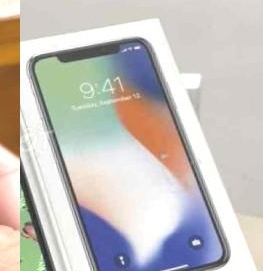scratch: (0, 0, 20, 271)
